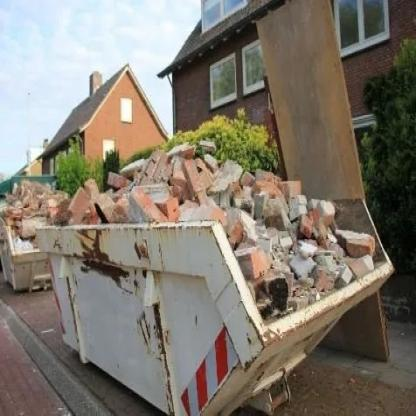brick: (2, 140, 378, 329)
